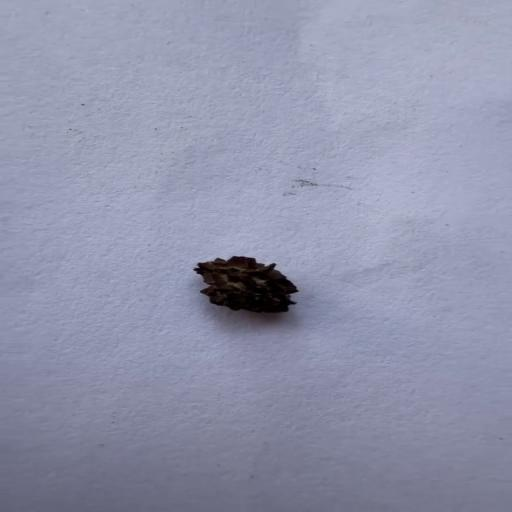papaya_seed: (164, 245, 326, 330)
